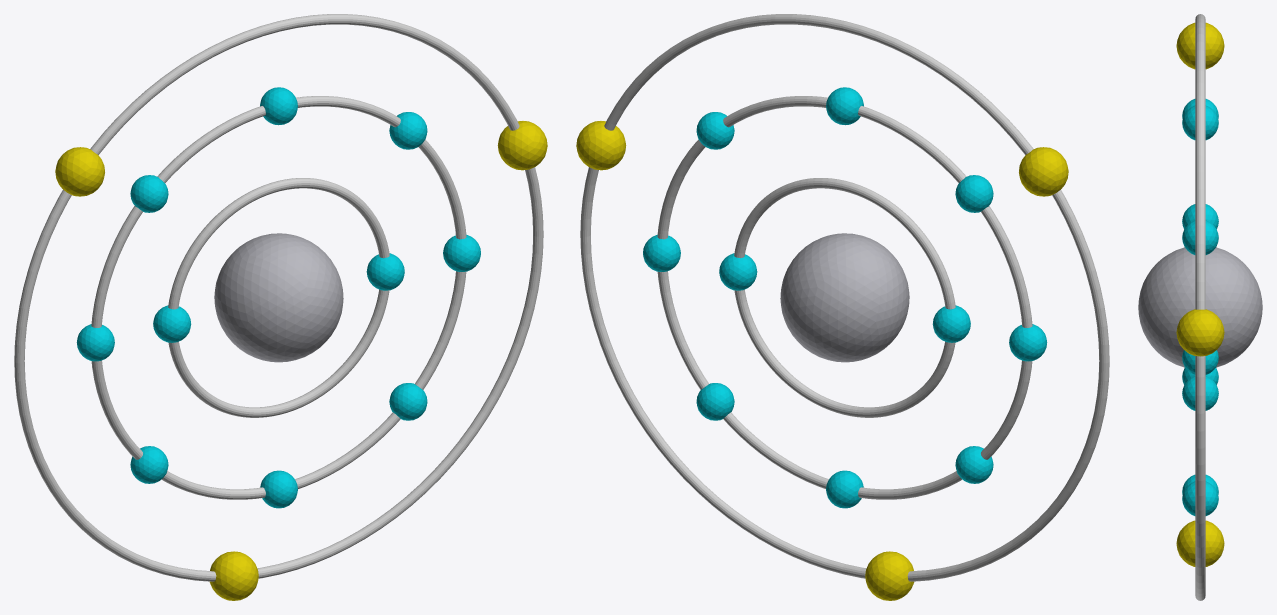
3 renders of one model, left to right at view 1: azimuth 30°, elevation 25°; view 2: azimuth 150°, elevation 25°; view 3: azimuth 270°, elevation 25°, orthographic. The views are drawn at different scales.
Visible parts, largest first — view 1: Camada_3, Nucleo_Al, Camada_2, Camada_1, Eletron_Valencia_2, Eletron_Valencia_3, Eletron_Valencia_1, Eletron_C2_4, Eletron_C2_8, Eletron_C1_2, Eletron_C2_5, Eletron_C1_1 (+5 smaller); view 2: Camada_3, Nucleo_Al, Camada_2, Camada_1, Eletron_Valencia_2, Eletron_Valencia_3, Eletron_Valencia_1, Eletron_C2_4, Eletron_C2_8, Eletron_C1_2, Eletron_C2_5, Eletron_C1_1 (+5 smaller); view 3: Nucleo_Al, Camada_3, Eletron_Valencia_1, Eletron_Valencia_3, Eletron_Valencia_2, Eletron_C2_3, Eletron_C2_1, Eletron_C2_2, Eletron_C2_8, Eletron_C1_1, Eletron_C2_5, Eletron_C2_6 (+2 smaller).
Part boxes in pixels (x1,y1,x2,y2): Camada_3: (14,14,543,581); Nucleo_Al: (214,233,343,362); Camada_2: (91,96,466,499); Camada_1: (168,178,389,417); Eletron_Valencia_2: (55,147,104,196); Eletron_Valencia_3: (209,551,258,600); Eletron_Valencia_1: (497,121,547,170); Eletron_C2_4: (130,175,168,212); Eletron_C2_8: (389,383,427,420); Eletron_C1_2: (153,305,191,342); Eletron_C2_5: (76,324,114,361); Eletron_C1_1: (366,253,404,290); Camada_3: (580,14,1109,581); Nucleo_Al: (780,233,909,362); Camada_2: (657,96,1032,499); Camada_1: (734,178,955,417); Eletron_Valencia_2: (1019,147,1068,196); Eletron_Valencia_3: (865,551,914,600); Eletron_Valencia_1: (576,121,626,170); Eletron_C2_4: (955,175,993,212); Eletron_C2_8: (696,383,734,420); Eletron_C1_2: (932,305,970,342); Eletron_C2_5: (1009,324,1047,361); Eletron_C1_1: (719,253,757,290); Nucleo_Al: (1138,247,1262,367); Camada_3: (1195,14,1205,600); Eletron_Valencia_1: (1176,309,1224,356); Eletron_Valencia_3: (1176,520,1224,566); Eletron_Valencia_2: (1176,22,1224,69); Eletron_C2_3: (1182,105,1218,140); Eletron_C2_1: (1182,376,1218,410); Eletron_C2_2: (1182,220,1218,254); Eletron_C2_8: (1182,481,1218,515); Eletron_C1_1: (1182,350,1218,374); Eletron_C2_5: (1182,204,1218,228); Eletron_C2_6: (1182,368,1218,384).
Bounding box in the file's own units: 2.08 × 2.13 × 0.44.
